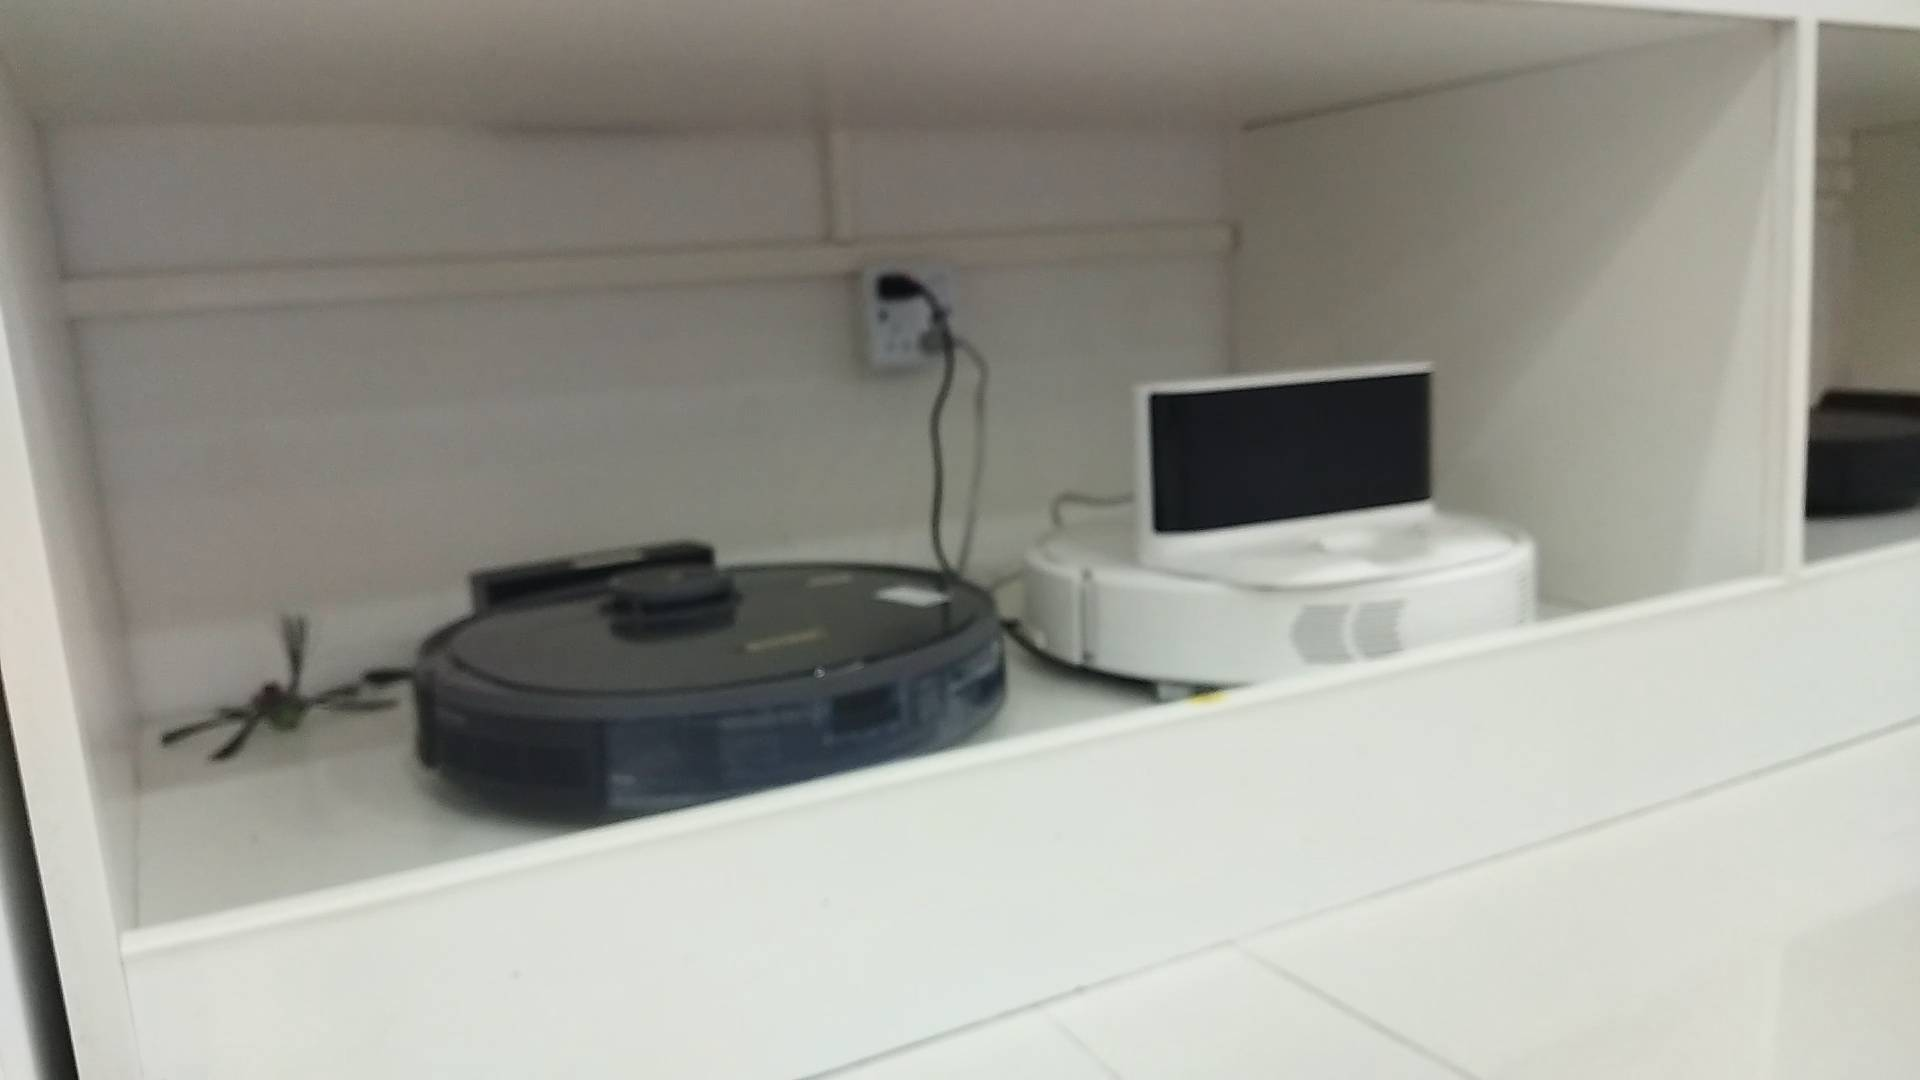recharge seat: (1131, 359, 1513, 589)
